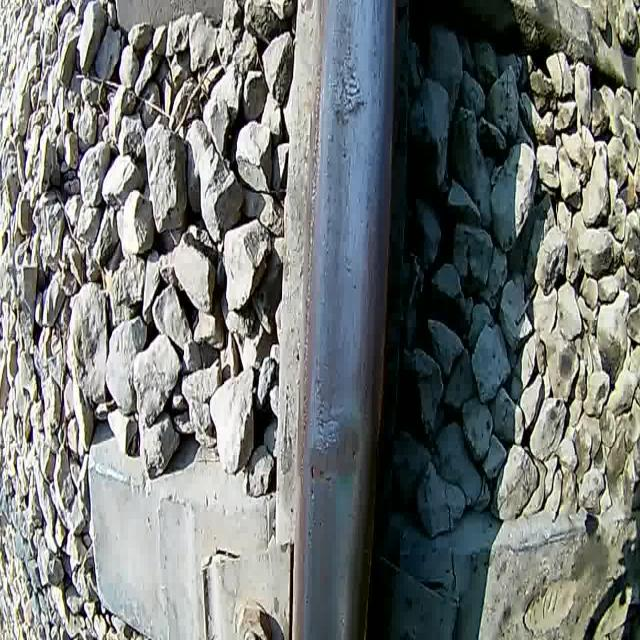Squats: (306, 420, 364, 489)
